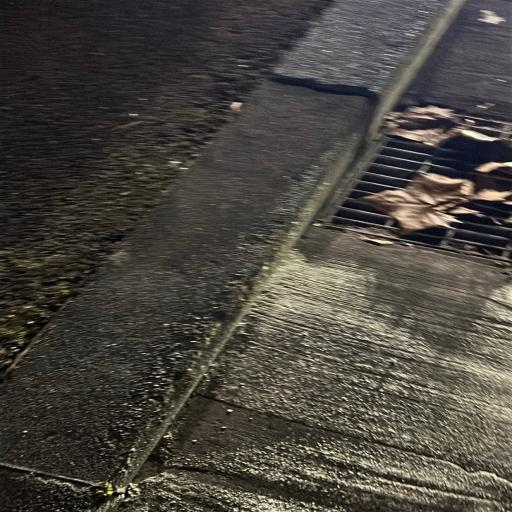debris: (362, 174, 509, 232), (390, 119, 511, 167), (410, 110, 437, 120), (434, 166, 463, 173), (479, 163, 501, 172), (394, 160, 416, 167), (393, 139, 406, 144), (465, 126, 478, 131), (503, 165, 511, 173), (401, 152, 411, 157), (385, 149, 396, 153), (367, 234, 376, 238), (395, 172, 406, 175)
drain: (313, 104, 510, 265)
